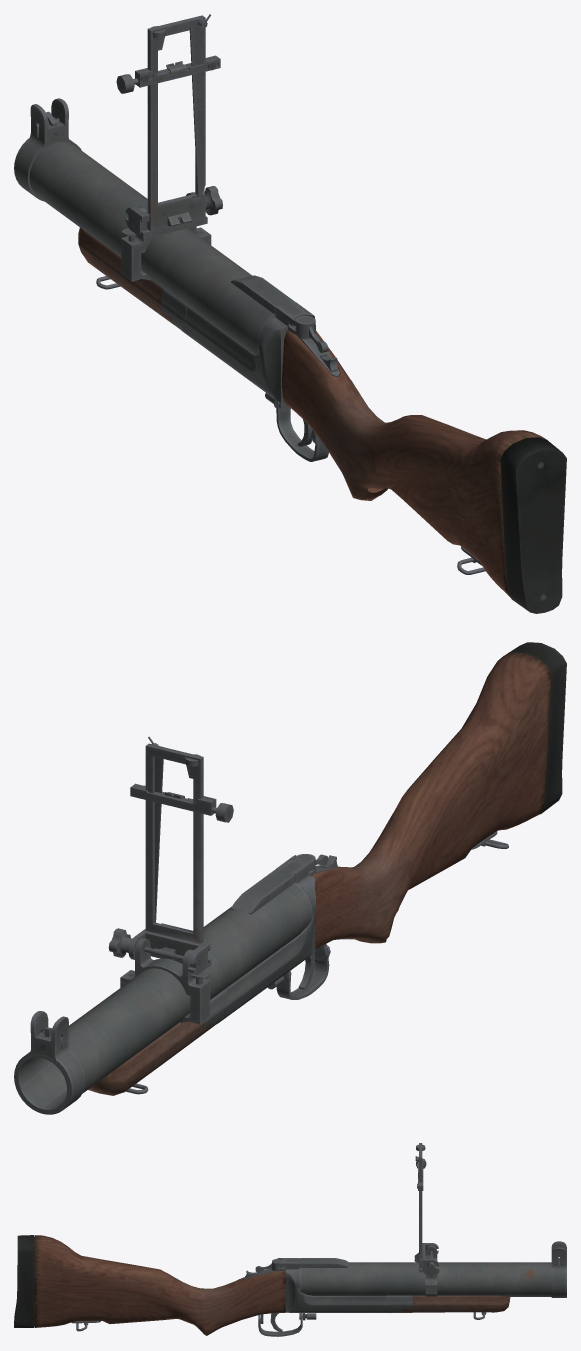
3 renders of one model, top to bottom at view 1: azimuth 30°, elevation 25°; view 2: azimuth 150°, elevation 25°; view 3: azimuth 270°, elevation 25°, orthographic. The views are drawn at different scales.
Parts seen in each view (by area): view 1: Barrel, Body; view 2: Barrel, Body; view 3: Barrel, Body.
Part boxes in pixels (<box>): Barrel: <box>14,14,355,463</box>; Body: <box>311,382,566,613</box>; Barrel: <box>14,736,370,1114</box>; Body: <box>340,642,566,943</box>; Barrel: <box>224,1143,566,1336</box>; Body: <box>14,1235,252,1335</box>.
Bounding box in the file's own units: 0.0871 × 0.273 × 0.73.
1 material, 1 textured.
